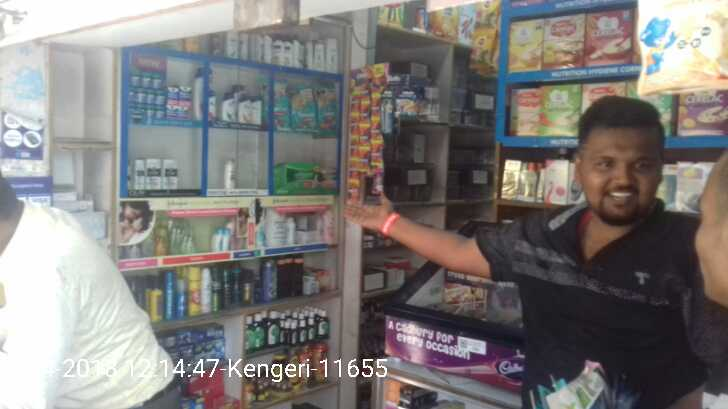vicks: (129, 67, 193, 119)
